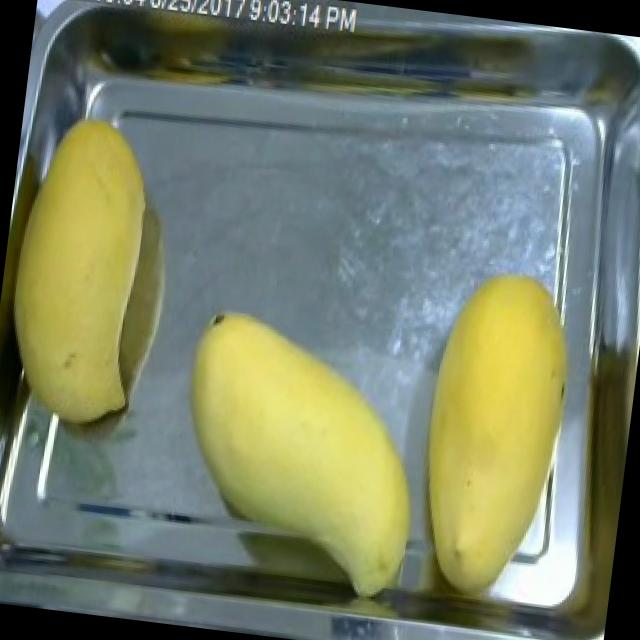fruit: (158, 302, 443, 572), (390, 256, 596, 621), (0, 96, 190, 444)
